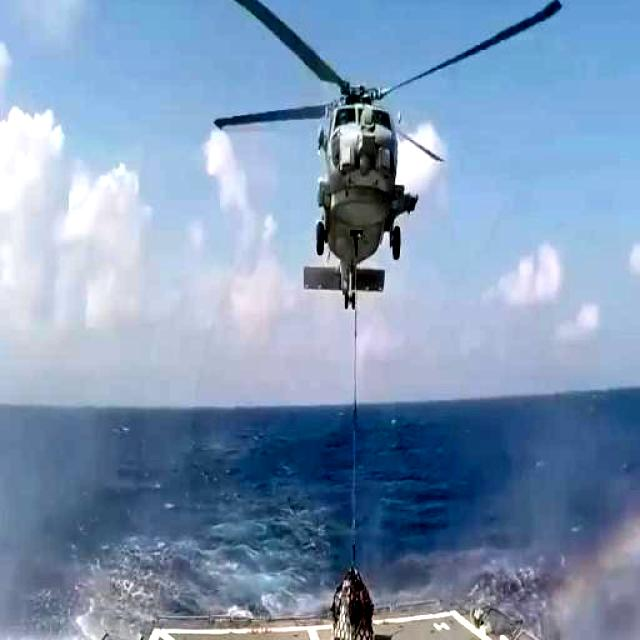drone: (165, 0, 569, 312)
